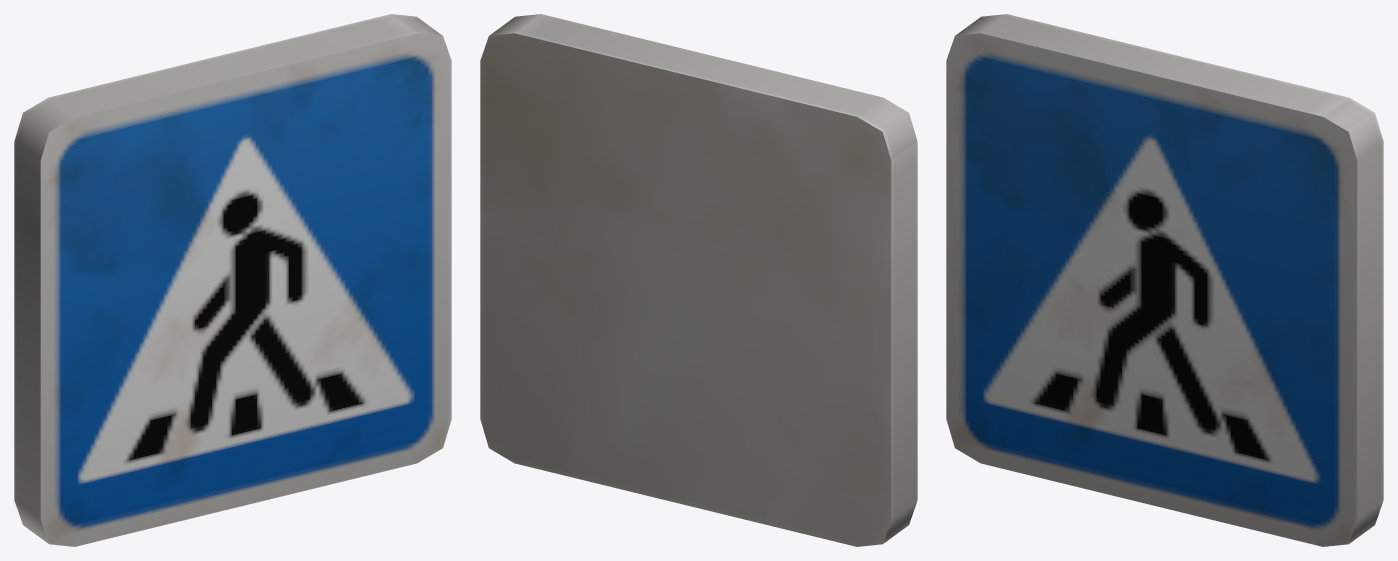
File: Sign_2.FBX
The picture shows the model from 3 angles, left to right: view 1: azimuth 30°, elevation 25°; view 2: azimuth 150°, elevation 25°; view 3: azimuth 330°, elevation 25°; orthographic projection.
Parts seen in each view (by area): view 1: Sign_2; view 2: Sign_2; view 3: Sign_2.
Boxes of the visible parts, <box> form: Sign_2: <box>14,14,451,546</box>; Sign_2: <box>480,14,917,546</box>; Sign_2: <box>946,14,1383,546</box>.
Bounding box in the file's own units: 54 × 54 × 5.98.
